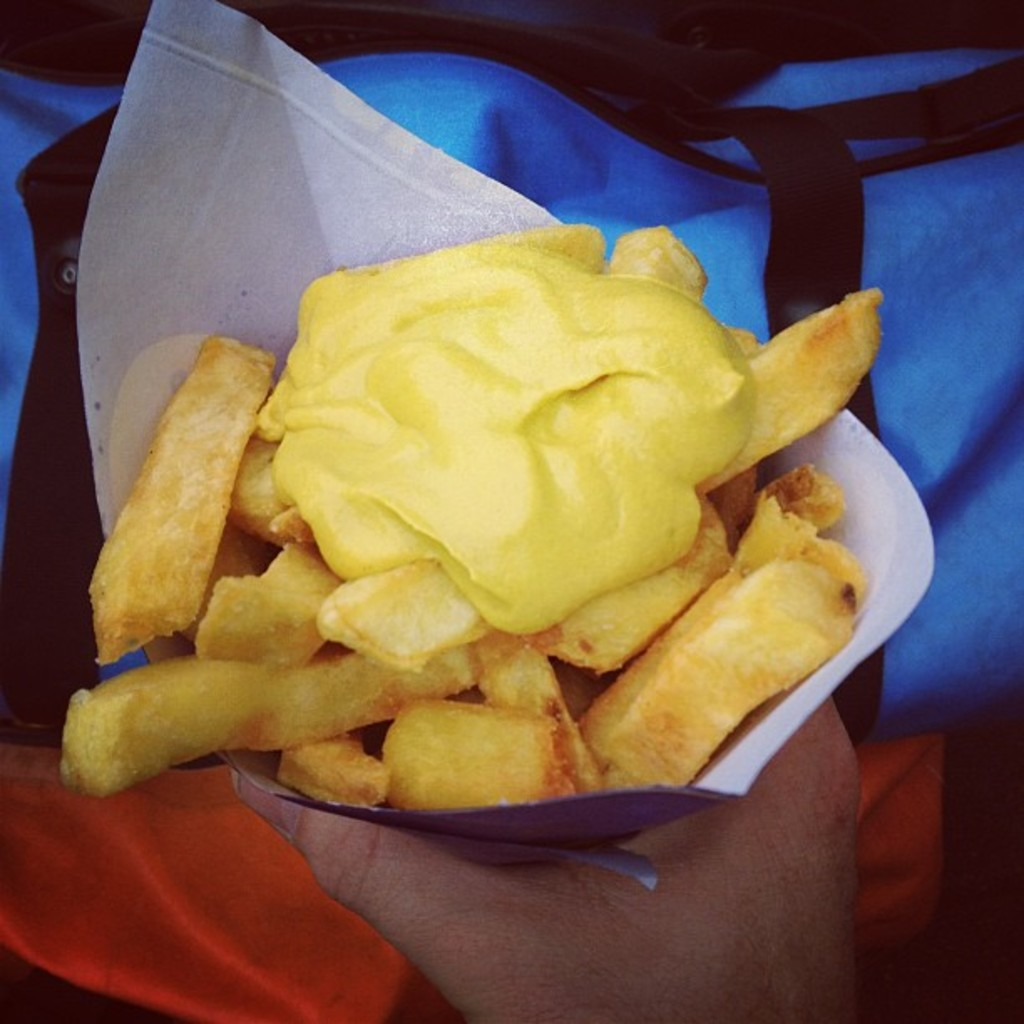French fries: (33, 247, 900, 861)
